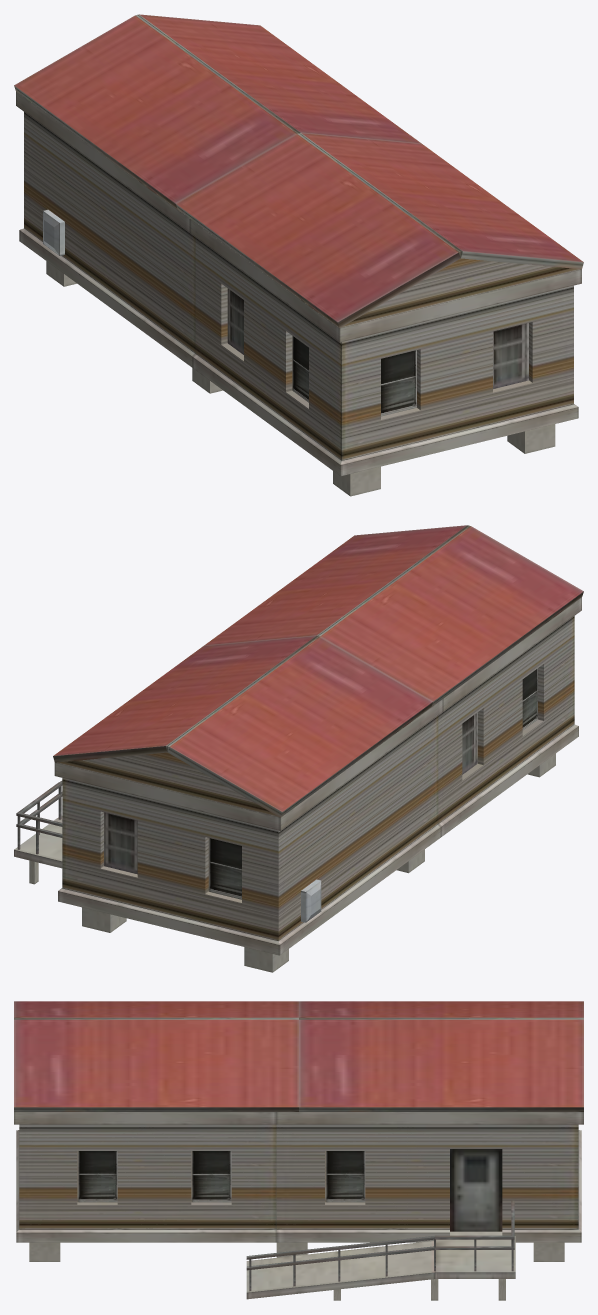
File: rural-mobile-home.lod1.glb
The picture shows the model from 3 angles, top to bottom: view 1: azimuth 30°, elevation 25°; view 2: azimuth 150°, elevation 25°; view 3: azimuth 270°, elevation 25°; orthographic projection. The views are drawn at different scales.
Parts seen in each view (by area): view 1: Rural_UnmobileHome_1_Rural_Trailer_Stuff_1_0, Rural_UnmobileHome_1_Rural_Facade_FLR_2_0; view 2: Rural_UnmobileHome_1_Rural_Trailer_Stuff_1_0, Rural_UnmobileHome_1_Rural_Facade_FLR_2_0; view 3: Rural_UnmobileHome_1_Rural_Trailer_Stuff_1_0, Rural_UnmobileHome_1_Rural_Facade_FLR_2_0.
Boxes of the visible parts, x1=… form: Rural_UnmobileHome_1_Rural_Trailer_Stuff_1_0: x1=14, y1=14, x2=583, y2=460; Rural_UnmobileHome_1_Rural_Facade_FLR_2_0: x1=16, y1=92, x2=581, y2=496; Rural_UnmobileHome_1_Rural_Trailer_Stuff_1_0: x1=53, y1=525, x2=583, y2=940; Rural_UnmobileHome_1_Rural_Facade_FLR_2_0: x1=14, y1=597, x2=581, y2=972; Rural_UnmobileHome_1_Rural_Trailer_Stuff_1_0: x1=14, y1=1001, x2=583, y2=1229; Rural_UnmobileHome_1_Rural_Facade_FLR_2_0: x1=14, y1=1112, x2=583, y2=1300.
Size of the model in its own units: 6.64 by 4.39 by 11.38.
Materials: 2 (2 with a texture image).
